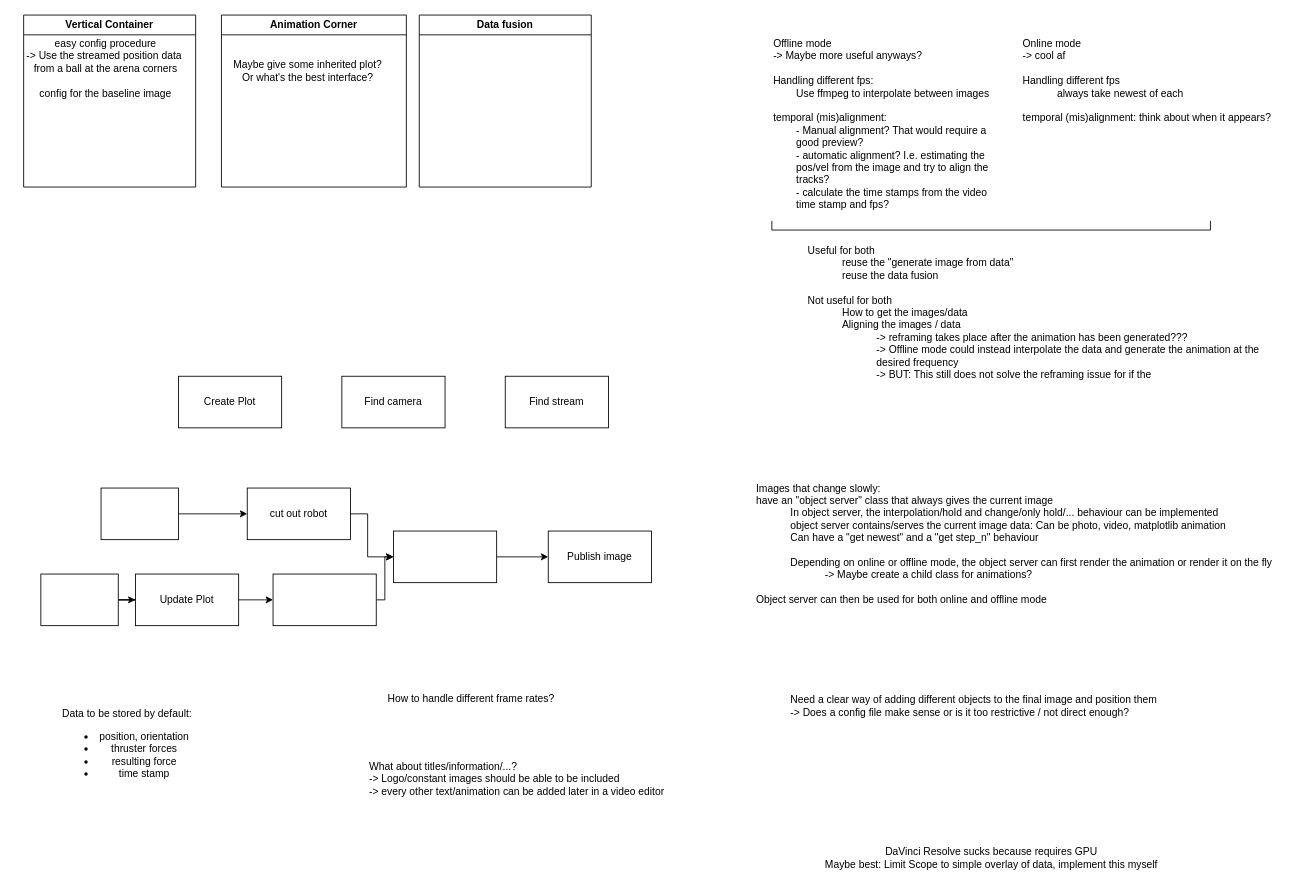
Some shapes in this 1302 by 890 pixel diagram are drawn without their labels. The shapes that lost their labels are listed below. From the top down, each one's centre as x and y in pixels, then its label:
At [139,513]: "Camera stream".
At [445,556]: "Fusion".
At [79,599]: "Position data Other data".
At [324,599]: "Project image".
